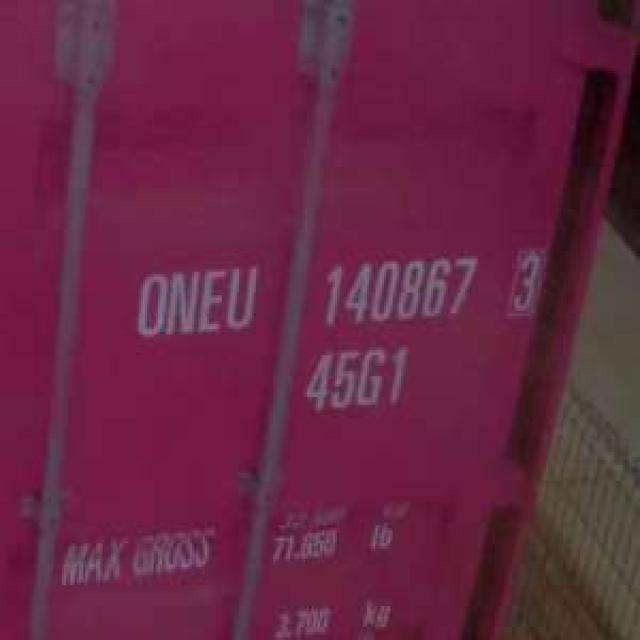dv: (503, 249, 546, 321)
owner: (133, 259, 261, 346)
serial: (316, 247, 481, 327)
size: (302, 338, 412, 414)
